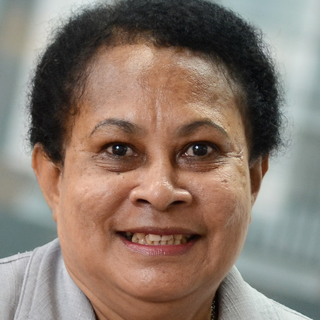eye: (177, 136, 224, 164), (95, 136, 141, 164)
